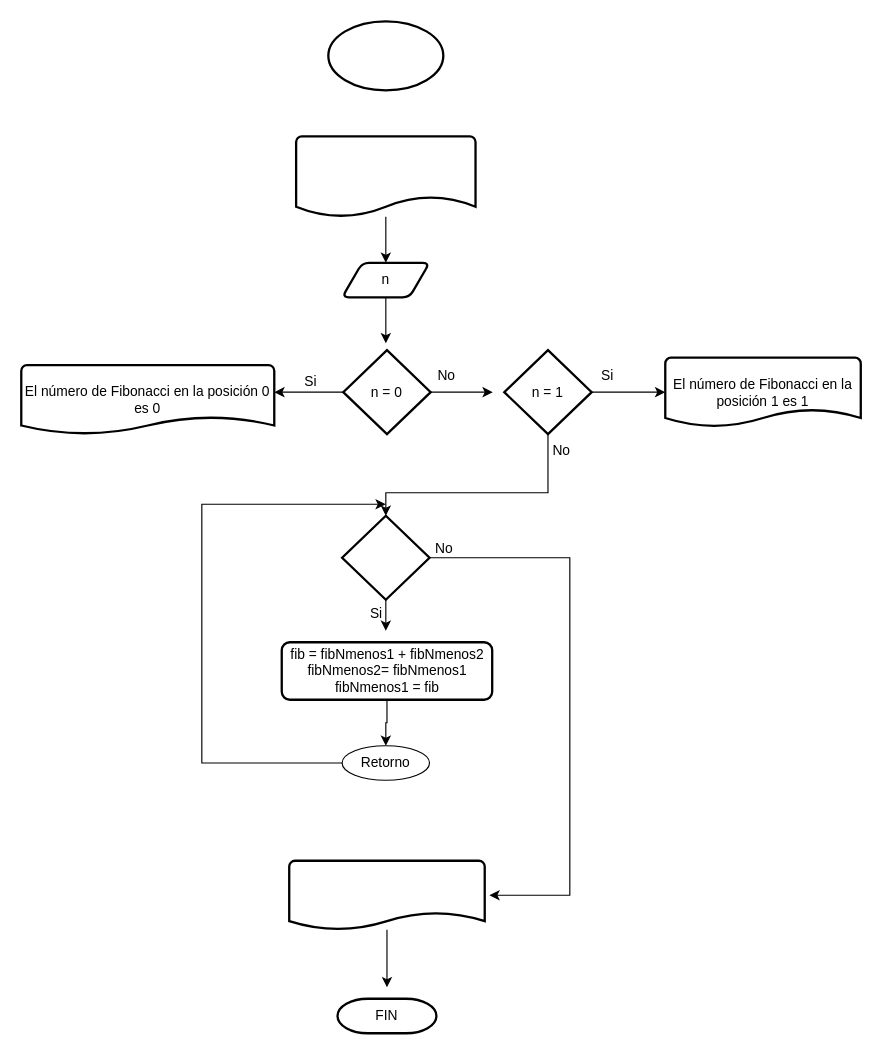
Some shapes in this 881 by 1053 pixel diagram are drawn without their labels. Here are the shapes that lost their labels. From the top down, the centre of each, then its label:
point 385,55: Inicio
point 385,176: Introduzca la posición para encontrar el número de Fibonacci
point 385,557: i <> n
point 386,894: El número de Fibonacci en la posición n es fib
